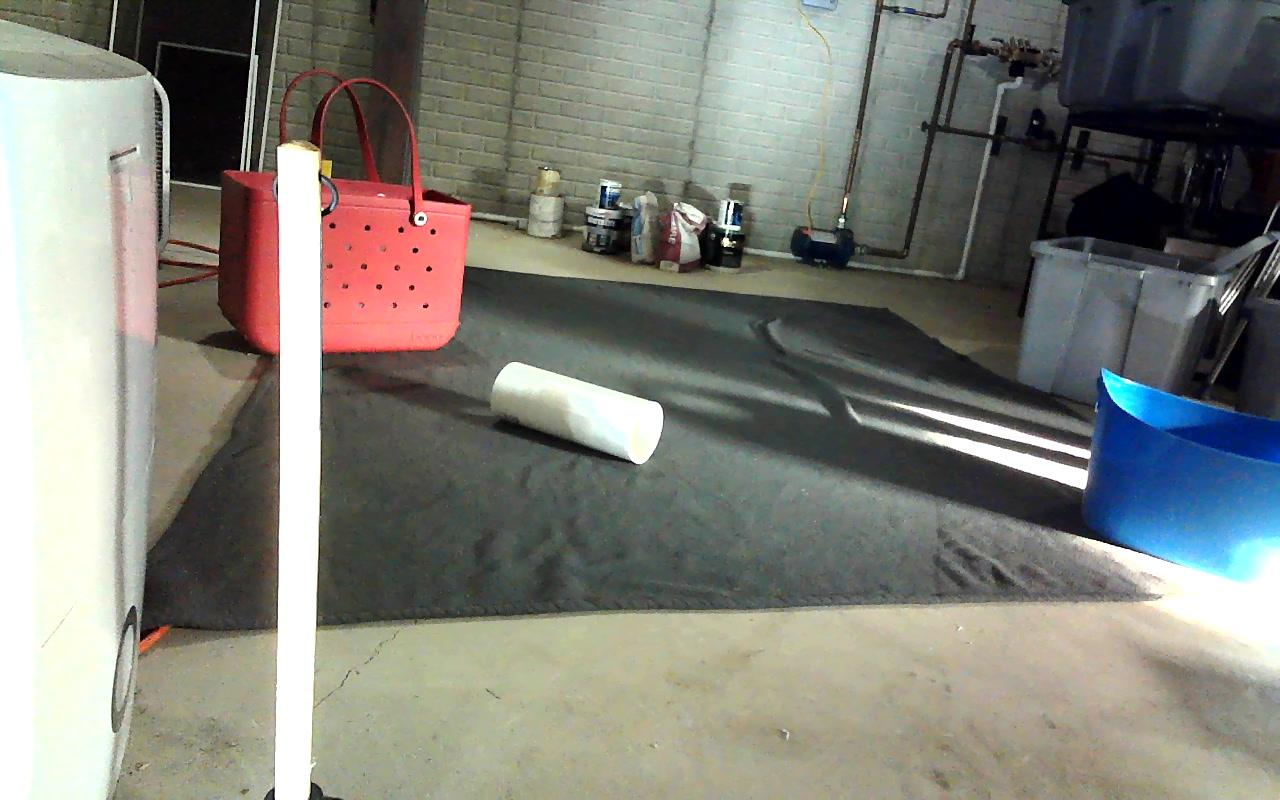coral: (491, 361, 661, 463)
